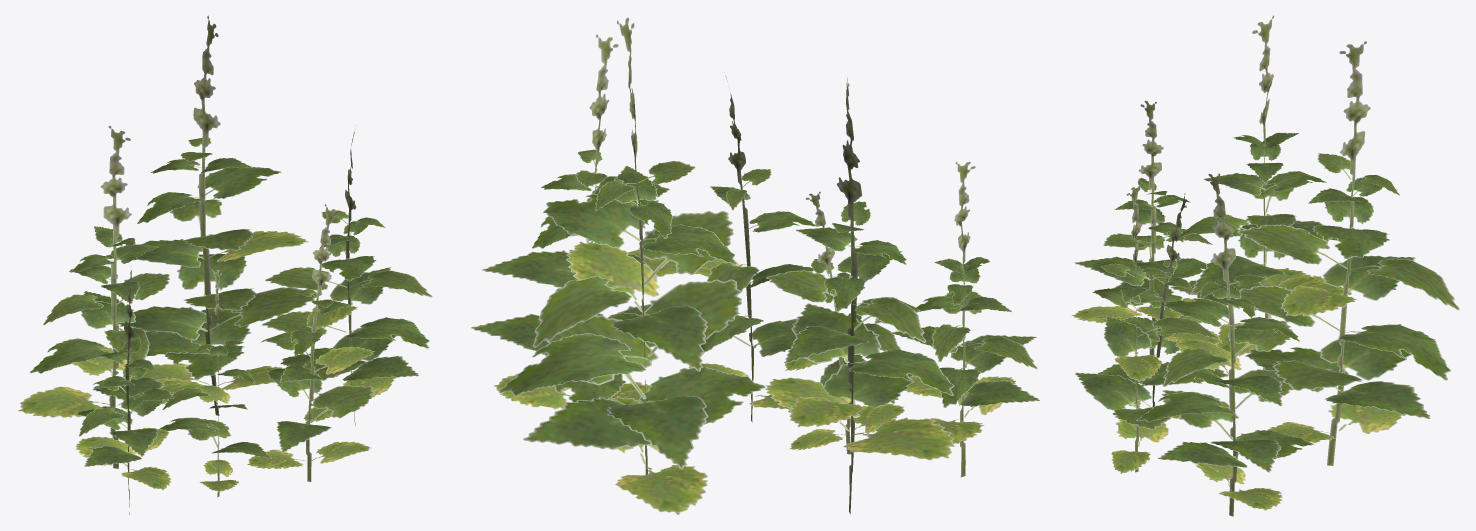
File: flower19_05.fbx
3 views of the same model, side by side, from view 1: azimuth 30°, elevation 25°; view 2: azimuth 150°, elevation 25°; view 3: azimuth 270°, elevation 25° (orthographic). The views are drawn at different scales.
Visible parts, largest first — view 1: flower19_05; view 2: flower19_05; view 3: flower19_05.
Boxes of the visible parts, x1,y1,x2,y2 form: flower19_05: [18, 15, 432, 514]; flower19_05: [471, 17, 1039, 514]; flower19_05: [1071, 15, 1459, 516].
Size of the model in its own units: 23.49 by 22.44 by 18.32.
